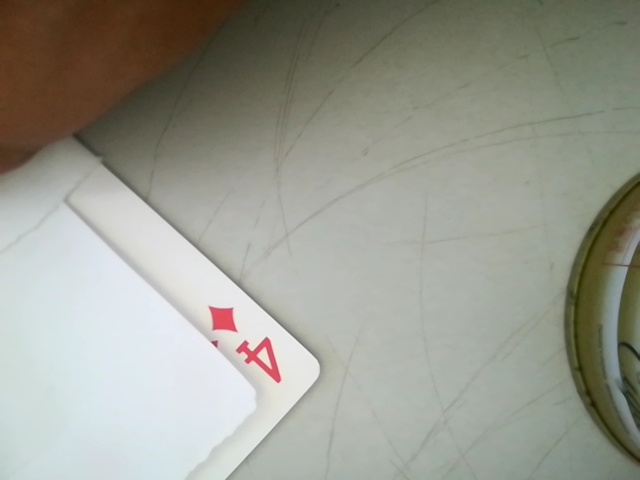fk 4: (185, 294, 293, 388)
